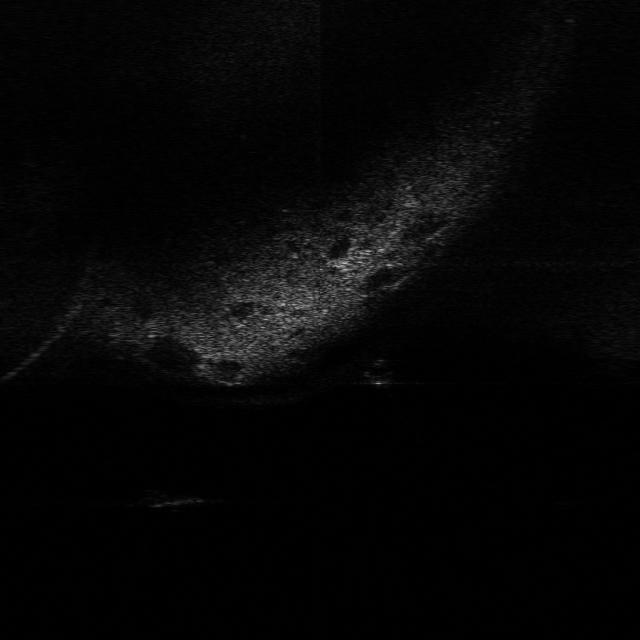ball: (354, 356, 400, 392)
cube: (140, 485, 202, 513)
